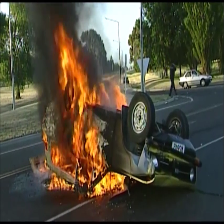fire_h: (51, 22, 108, 184), (87, 171, 127, 196), (47, 172, 75, 192)
fire_l: (114, 81, 128, 109), (37, 160, 50, 172), (42, 127, 48, 148)
